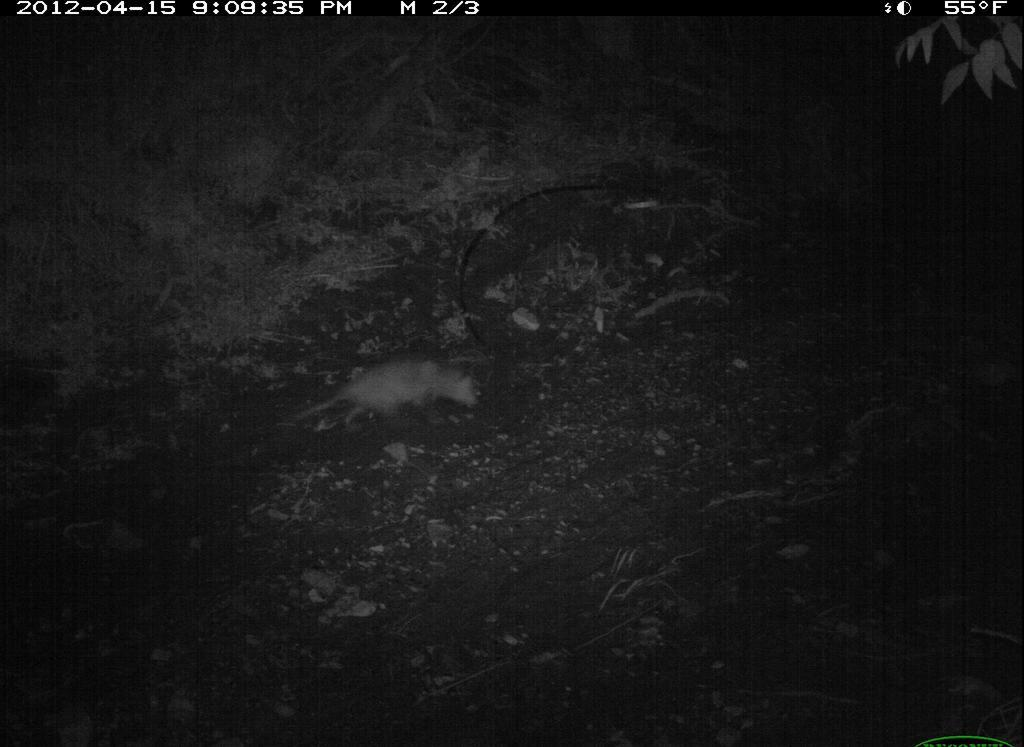opossum: (291, 344, 492, 447)
